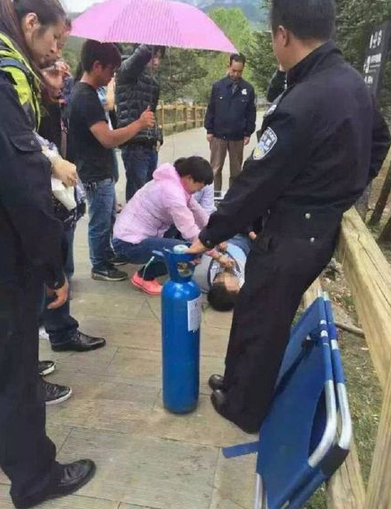fall: (156, 199, 276, 310)
